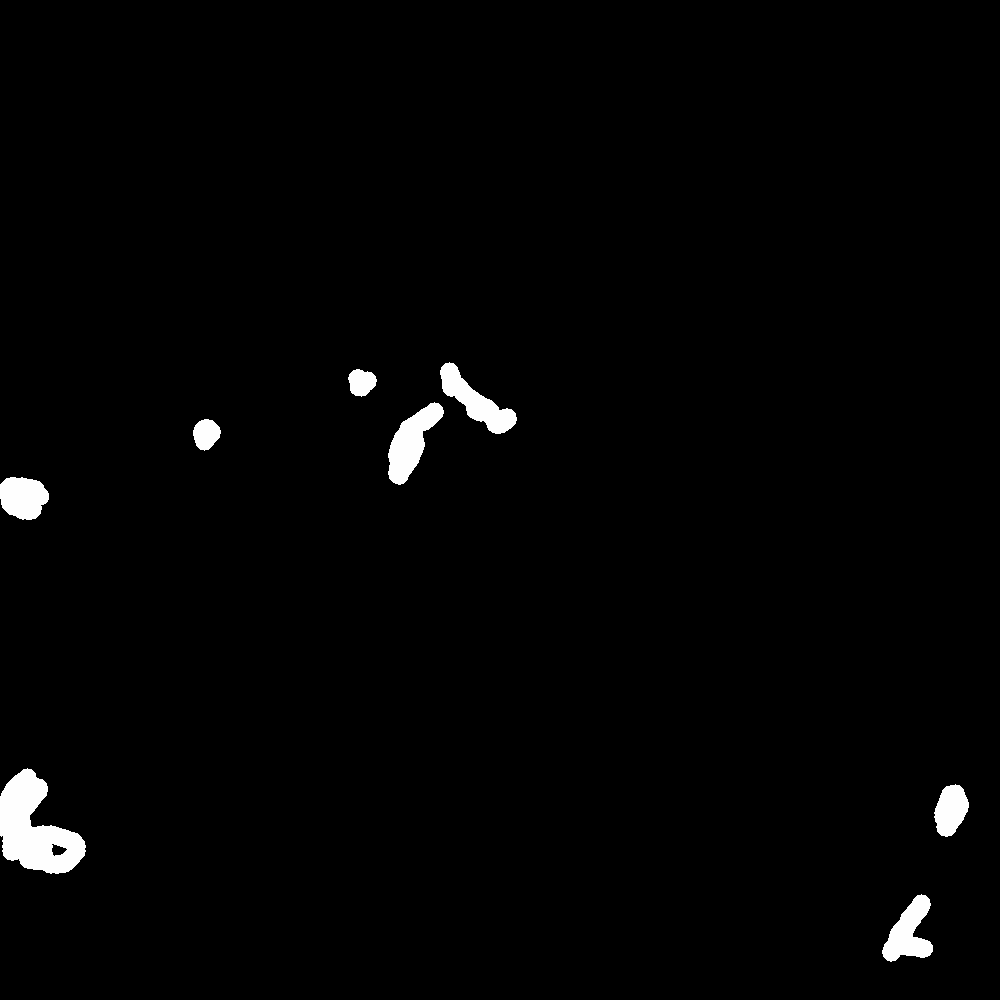illegal: (1, 763, 69, 871), (433, 375, 506, 427), (390, 410, 432, 489), (160, 197, 219, 252), (61, 242, 125, 292), (492, 250, 546, 308), (883, 904, 934, 963), (196, 424, 229, 513), (936, 784, 961, 846), (7, 479, 51, 514), (352, 370, 375, 402)
